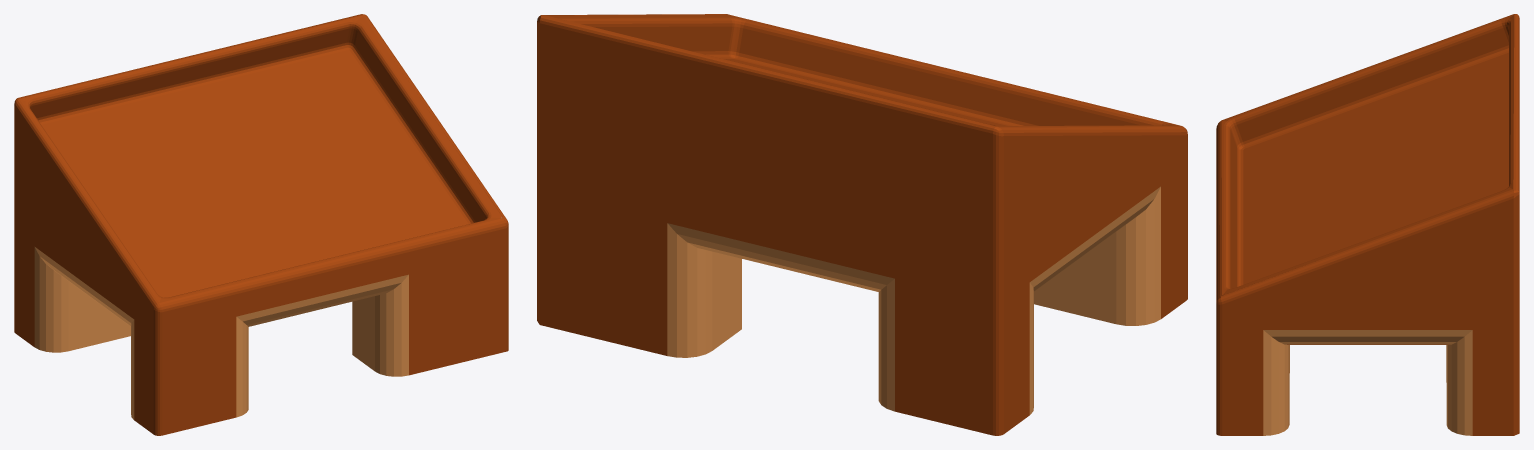
File: tezgah.fbx
The picture shows the model from 3 angles, left to right: view 1: azimuth 30°, elevation 25°; view 2: azimuth 150°, elevation 25°; view 3: azimuth 270°, elevation 25°; orthographic projection. The views are drawn at different scales.
Parts seen in each view (by area): view 1: polySurface5; view 2: polySurface5; view 3: polySurface5.
Boxes of the visible parts, <box> form: polySurface5: <box>14,14,508,435</box>; polySurface5: <box>537,14,1187,435</box>; polySurface5: <box>1216,14,1519,435</box>.
Size of the model in its own units: 119 by 84.13 by 74.6.
